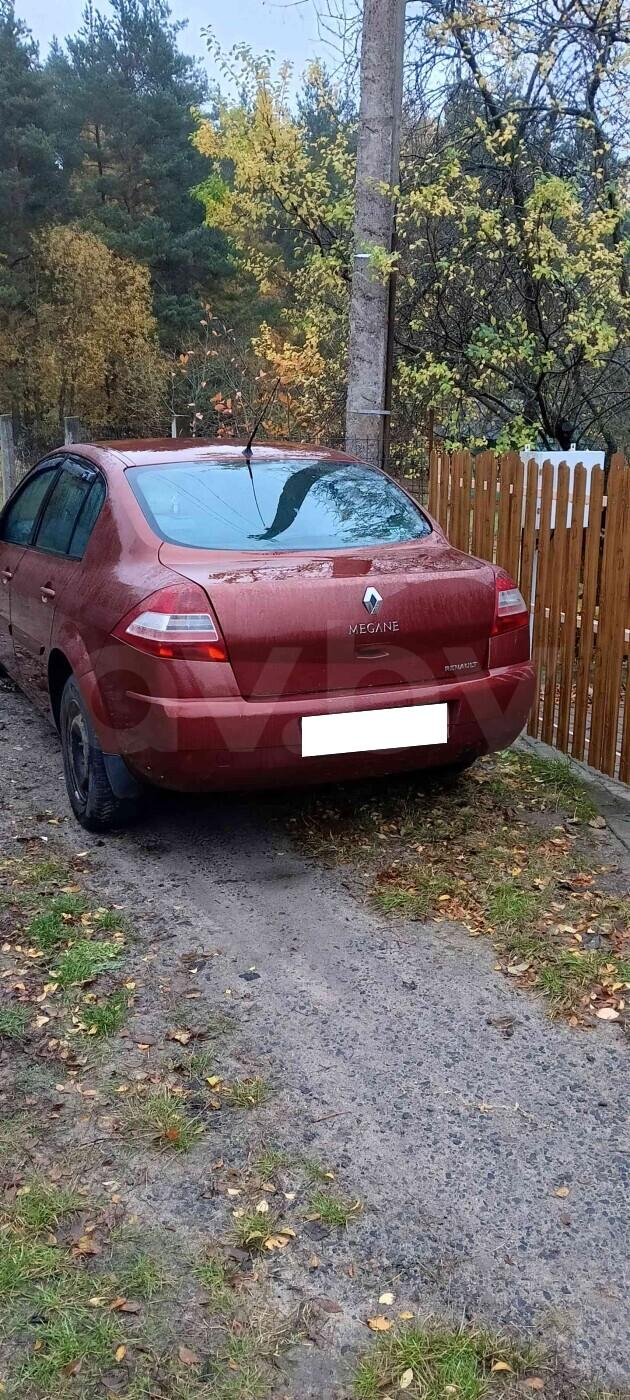Megane_2005-2009: (0, 428, 546, 854)
